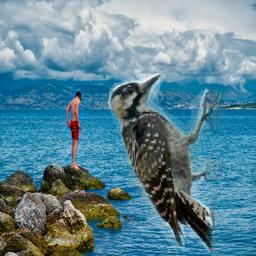Woodpecker: (107, 73, 223, 256)
